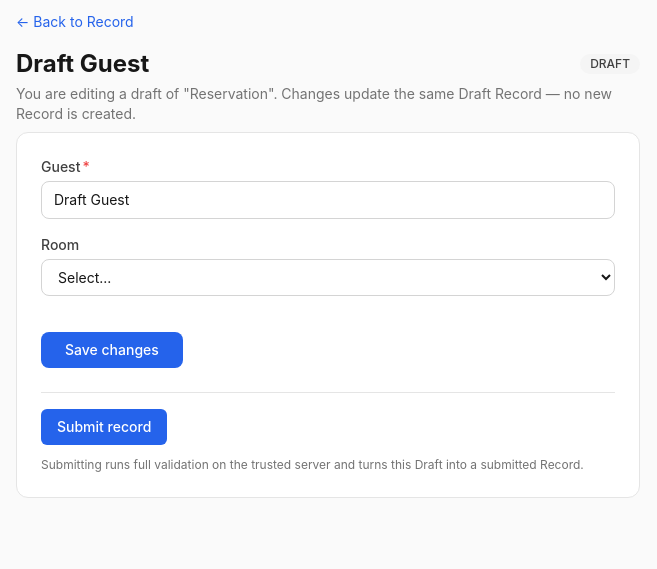
it: Record Edit — saving › manual save sends current form values through the trusted UPDATE_DRAFT command, without validation blocking partial drafts
Clear the field showing "Draft Guest" at (328, 200), box [41, 181, 615, 219]
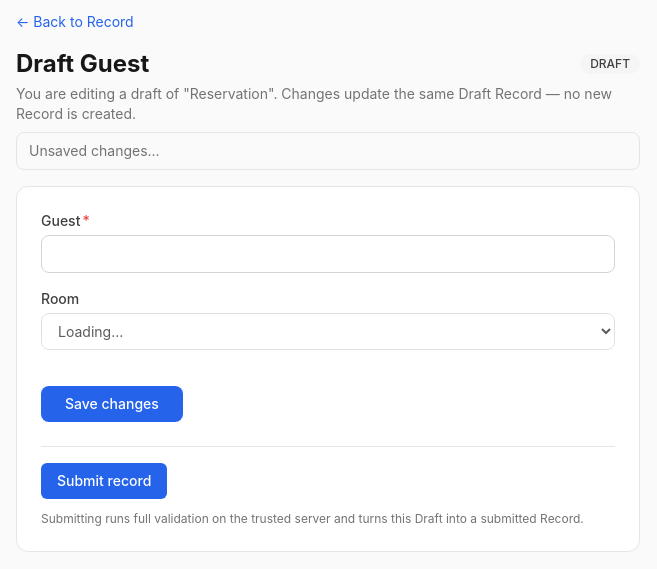
Click the button "Save changes" at (112, 404), box [41, 386, 183, 422]
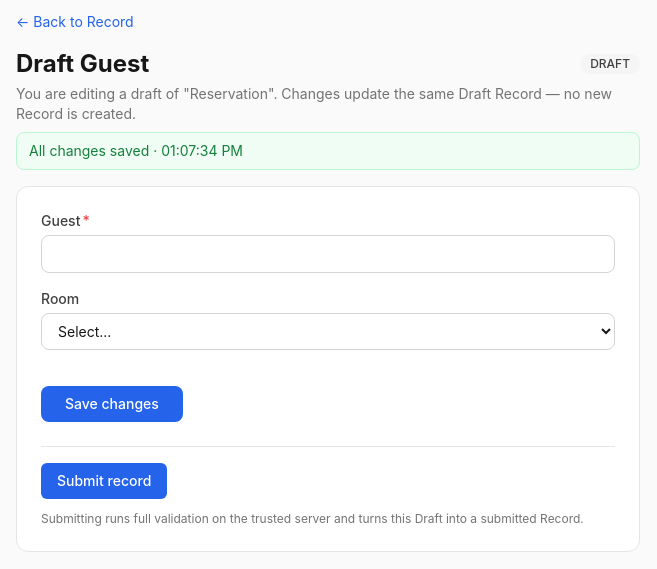
Result: the text "All changes saved · 01:07:34 PM" is shown at [16, 132, 640, 170]
